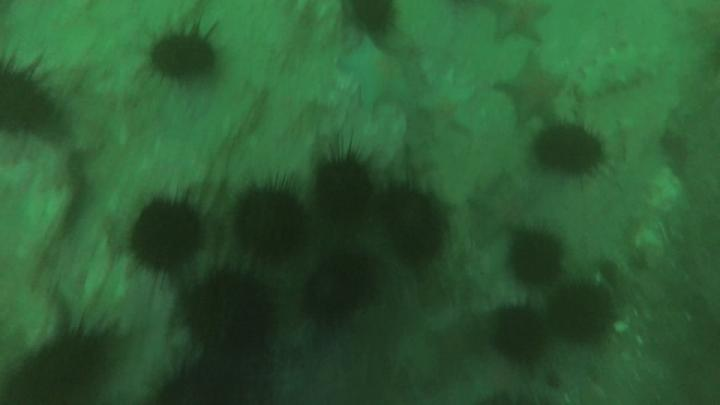echinus: (1, 336, 106, 405), (183, 273, 275, 351), (129, 200, 205, 271), (236, 191, 311, 262), (377, 184, 443, 263), (309, 252, 376, 317), (556, 281, 618, 343), (314, 156, 374, 220), (533, 128, 606, 175), (494, 309, 550, 367), (149, 35, 217, 79), (2, 72, 48, 136), (510, 231, 565, 284), (155, 372, 240, 405), (352, 1, 392, 29)
holothurian: (583, 41, 679, 99)
starfish: (339, 39, 414, 114), (495, 53, 567, 126), (466, 172, 542, 241), (420, 67, 480, 136), (483, 1, 551, 44)
